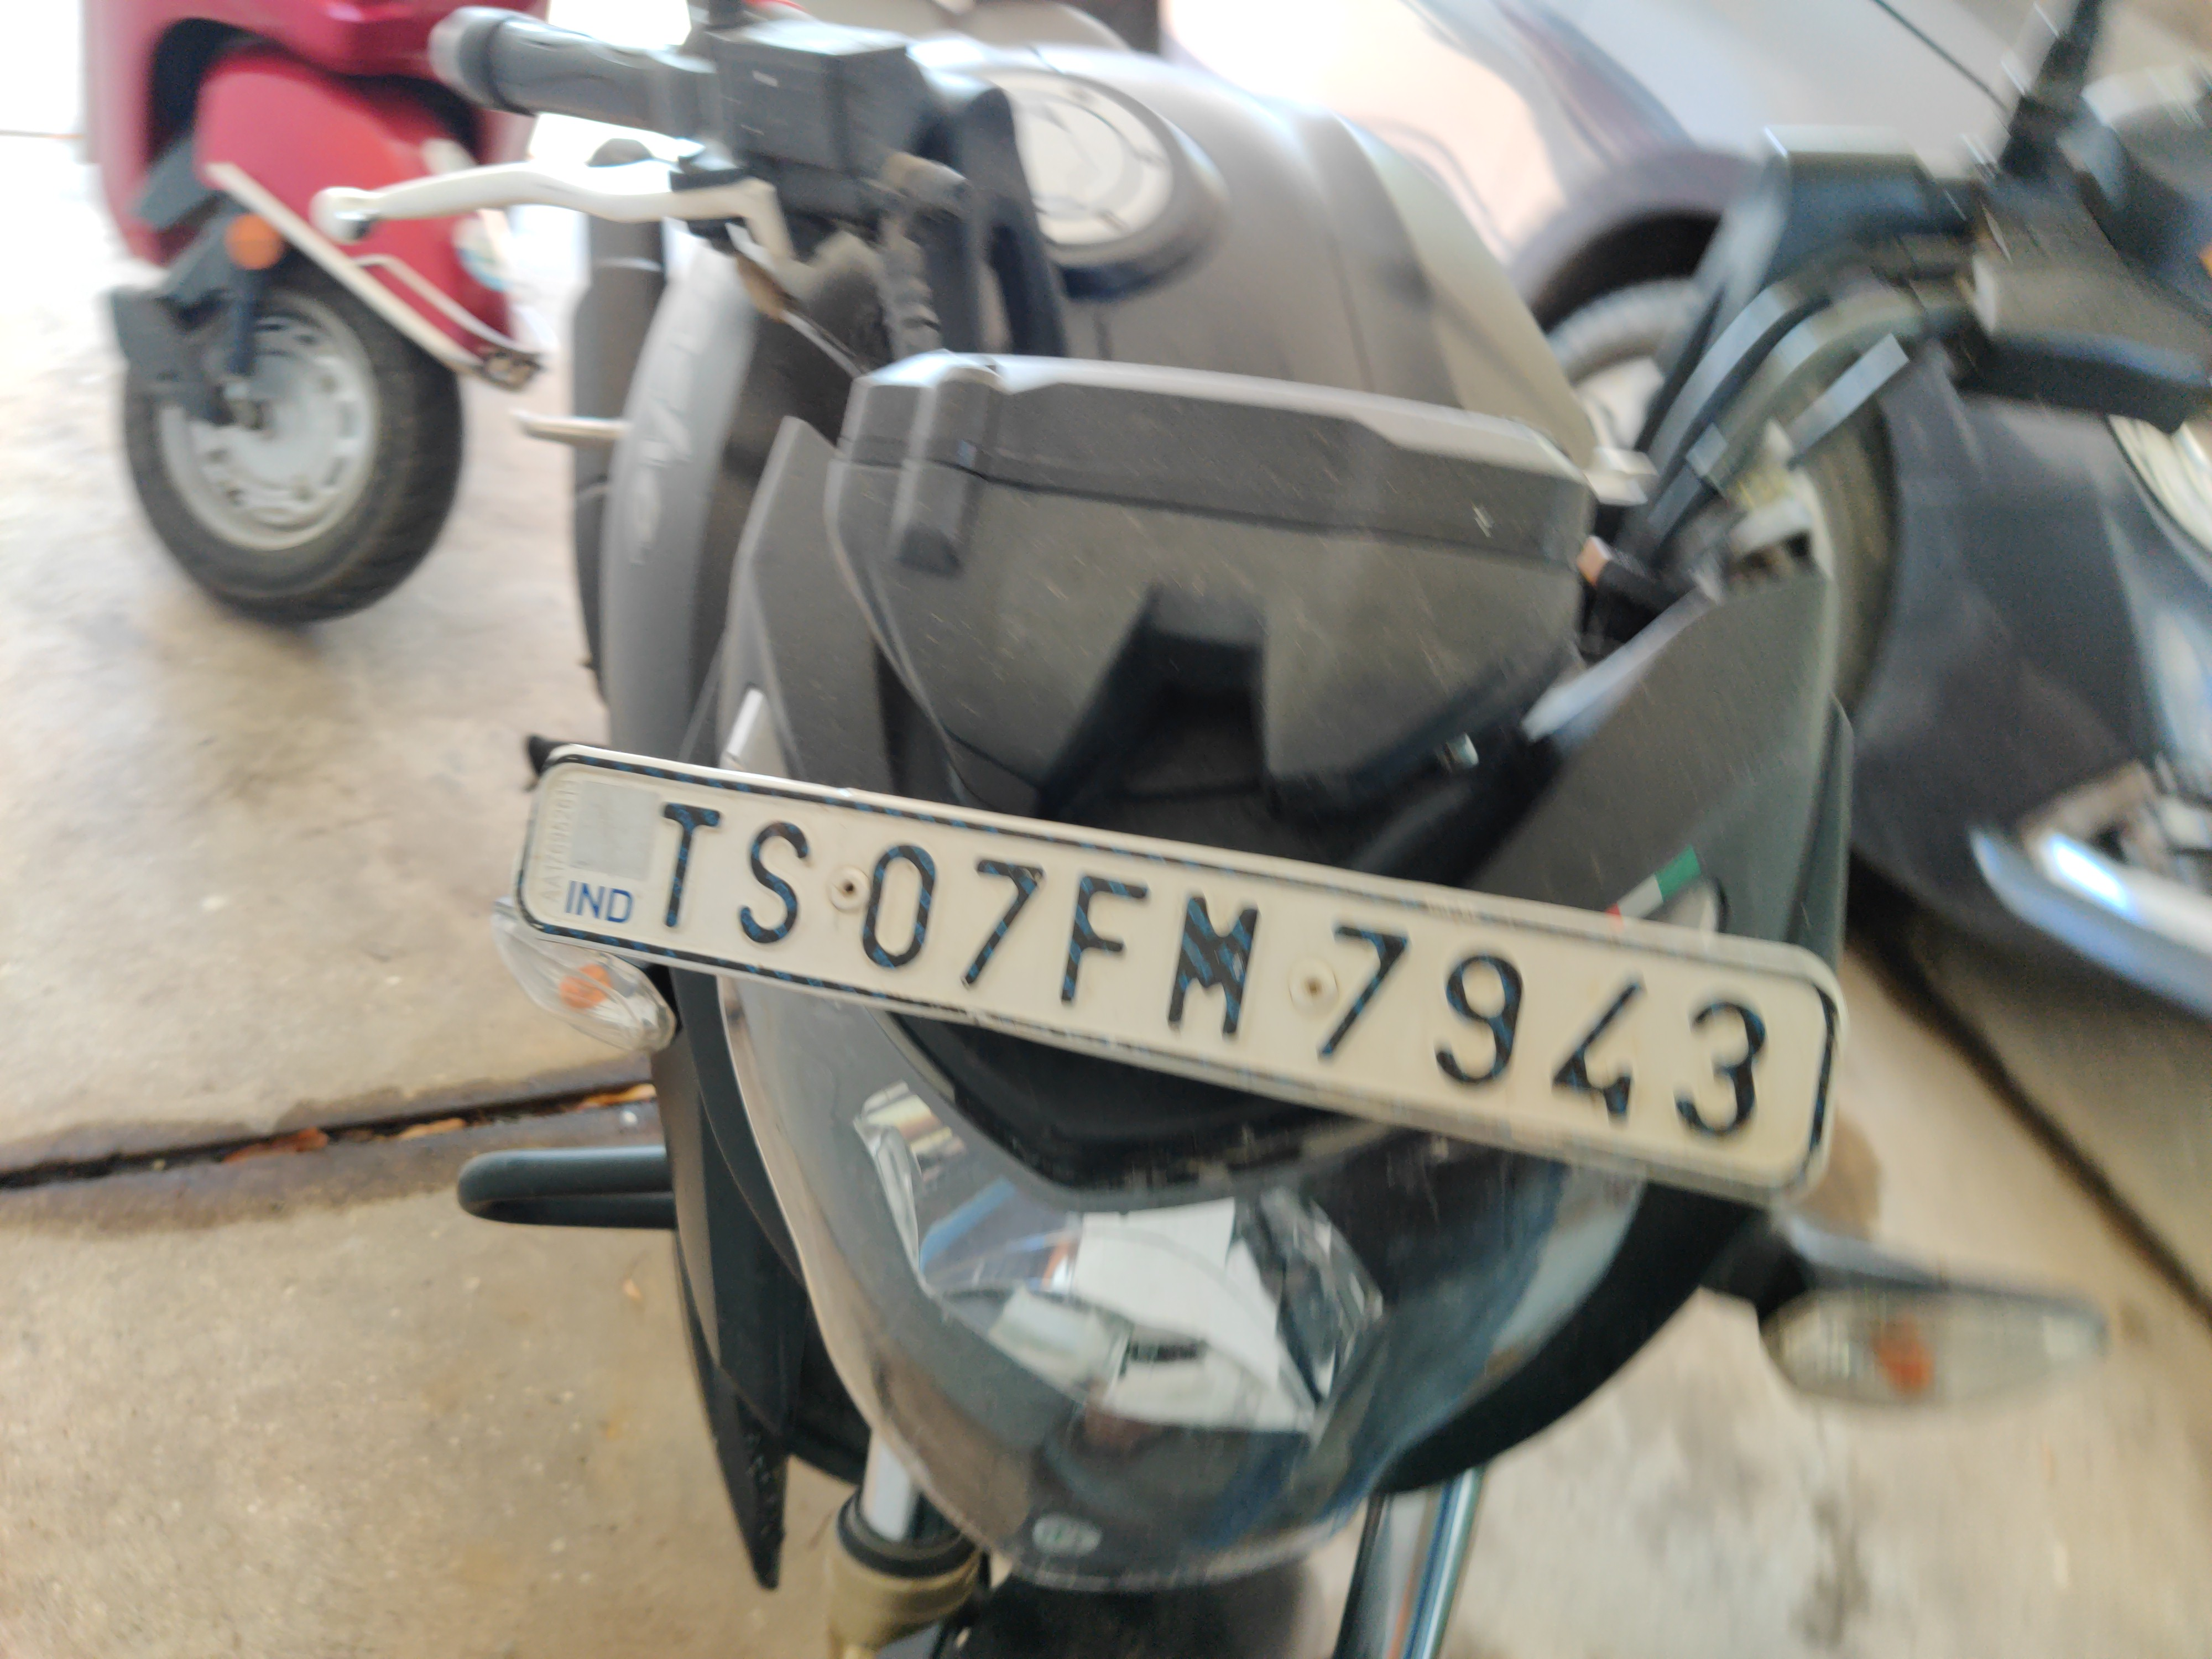plate: (502, 744, 1857, 1214)
